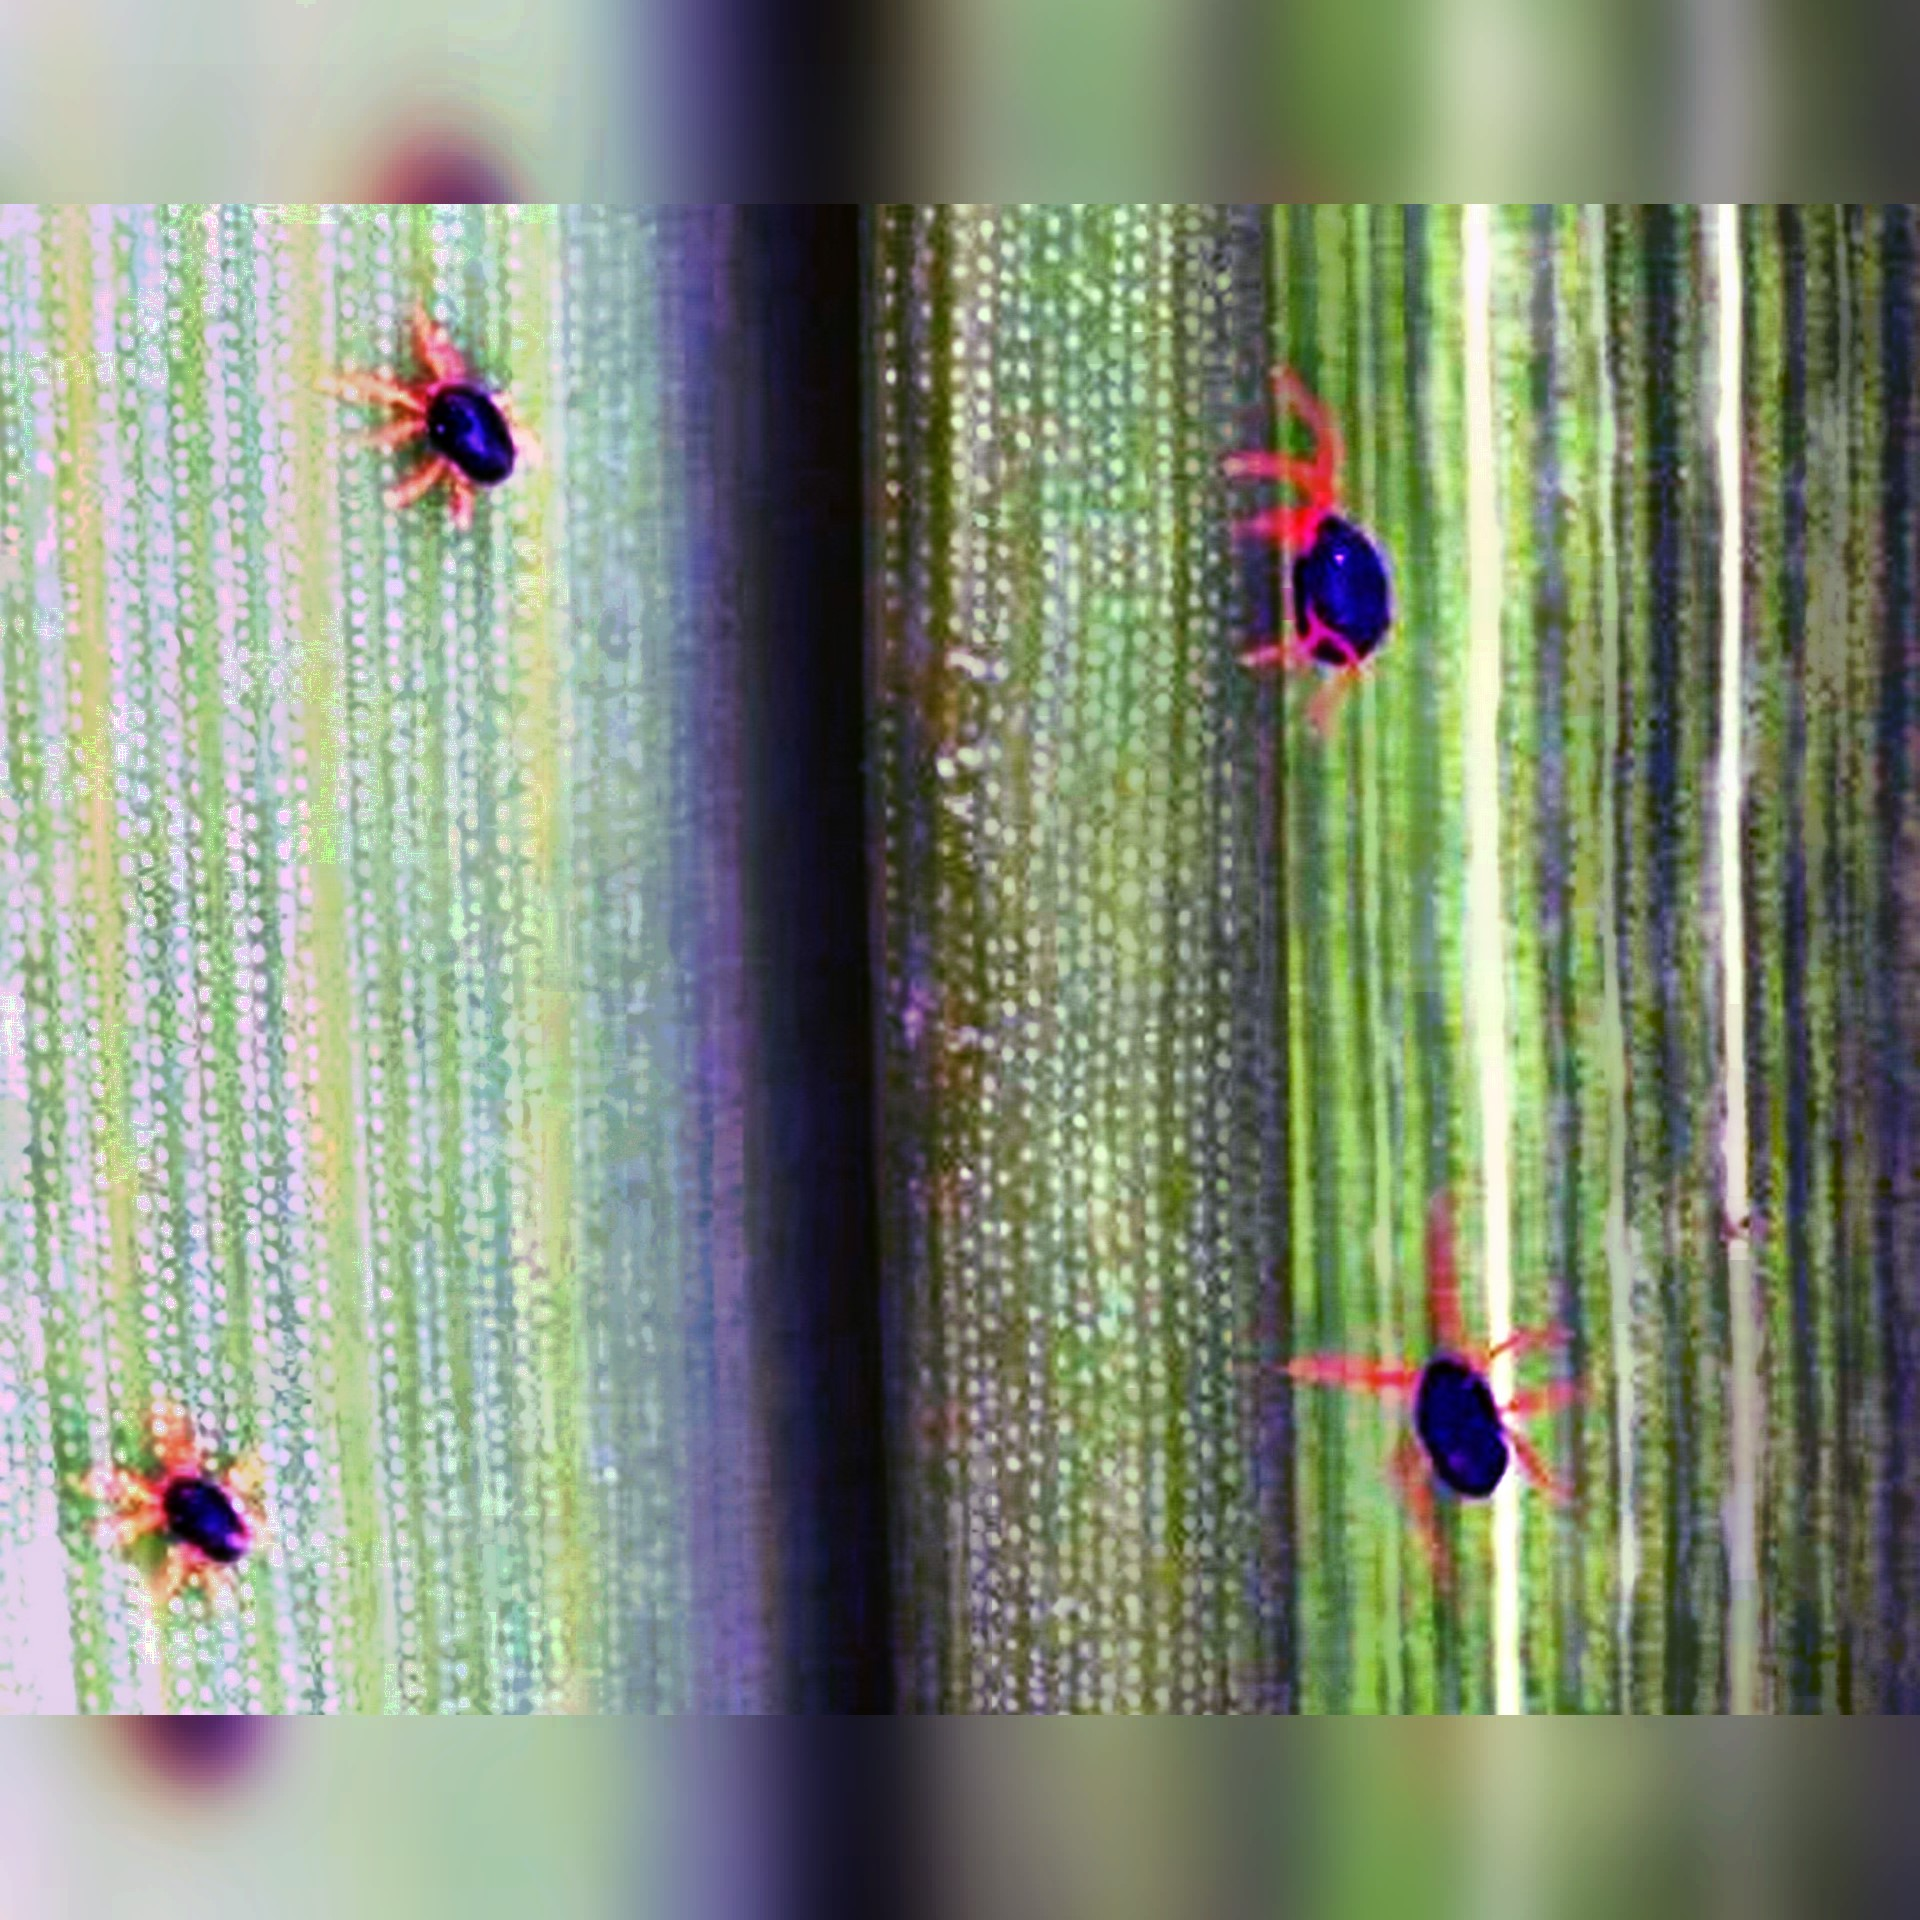Wheat Red Spider: (1247, 1143, 1642, 1623), (285, 273, 566, 535)
